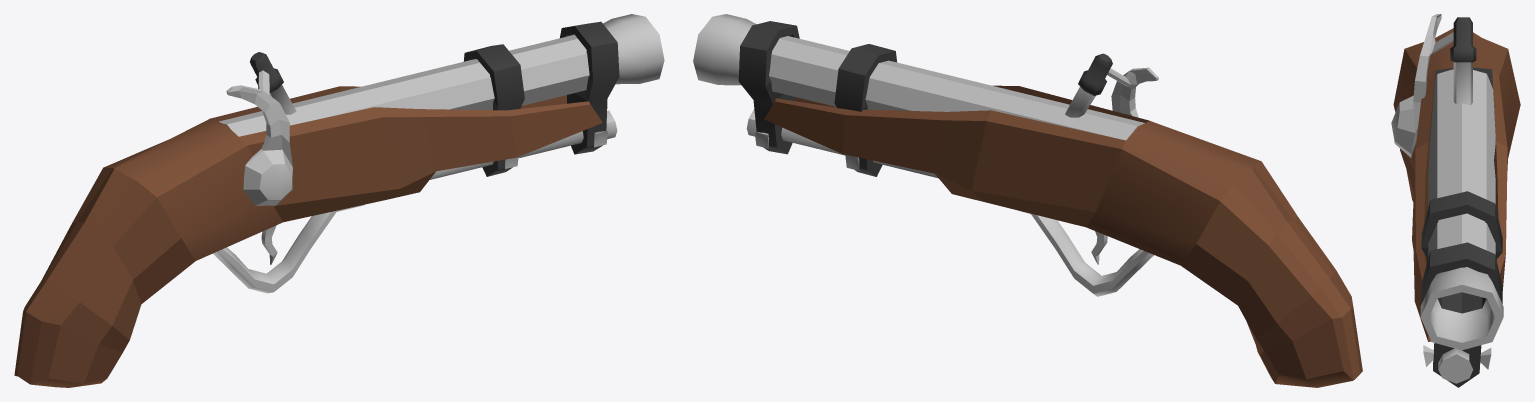
Rendered from gun.glb.
The picture shows the model from 3 angles, left to right: view 1: azimuth 30°, elevation 25°; view 2: azimuth 150°, elevation 25°; view 3: azimuth 270°, elevation 25°; orthographic projection. The views are drawn at different scales.
Parts seen in each view (by area): view 1: Pistola; view 2: Pistola; view 3: Pistola.
Part boxes in pixels (left/top/right/bottom): Pistola: left=14, top=14, right=664, bottom=387; Pistola: left=693, top=14, right=1362, bottom=387; Pistola: left=1391, top=14, right=1520, bottom=387.
Size of the model in its own units: 26.15 by 11.11 by 4.22.
1 material, 1 textured.
